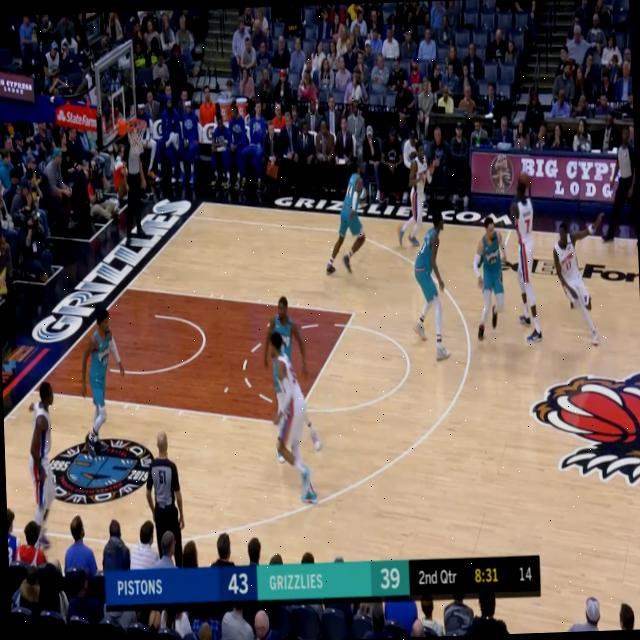no foul: (240, 281, 336, 522), (467, 170, 546, 352)
